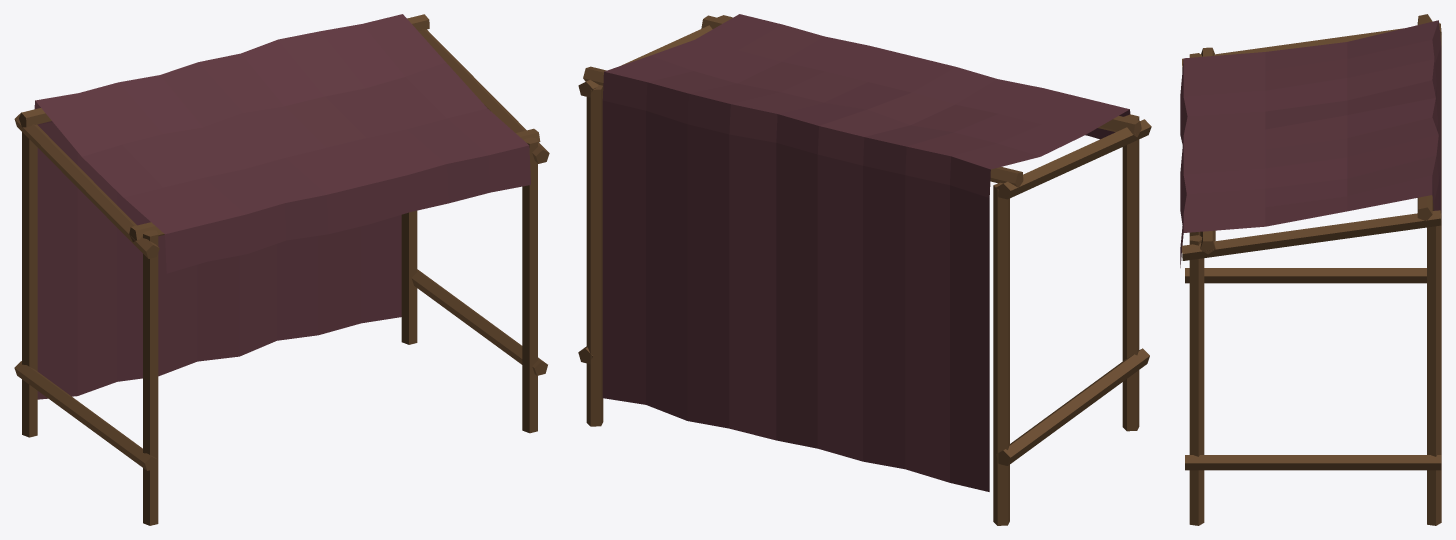
Rendered from marketplace-stand-simple.fbx.
3 views of the same model, side by side, from view 1: azimuth 30°, elevation 25°; view 2: azimuth 150°, elevation 25°; view 3: azimuth 270°, elevation 25° (orthographic). The views are drawn at different scales.
Visible parts, largest first — view 1: marketplace-stand-simple; view 2: marketplace-stand-simple; view 3: marketplace-stand-simple.
Part boxes in pixels (<box>): marketplace-stand-simple: <box>14,14,549,525</box>; marketplace-stand-simple: <box>578,14,1151,525</box>; marketplace-stand-simple: <box>1180,14,1441,525</box>.
Size of the model in its own units: 3.06 by 2.4 by 1.74.
